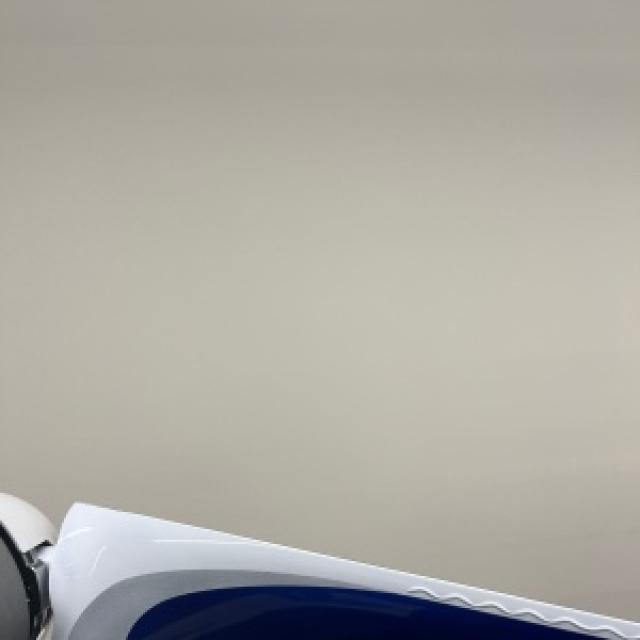healthy: (0, 491, 638, 638)
